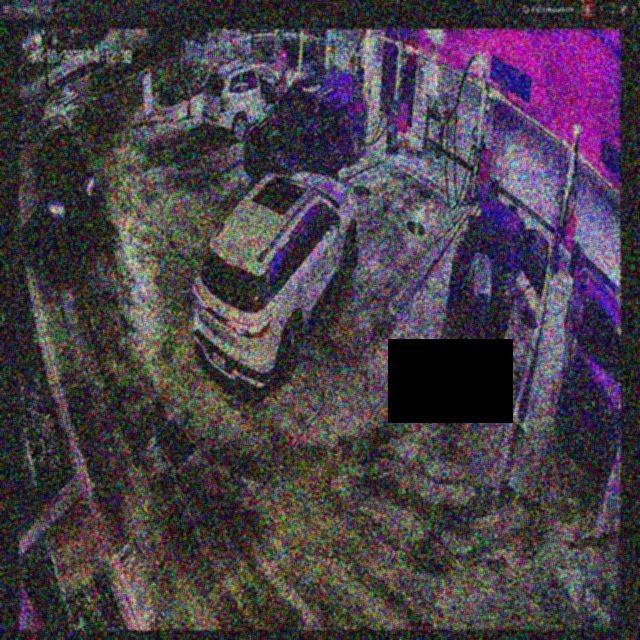Car: (194, 170, 359, 402), (243, 63, 365, 189), (455, 190, 546, 337)
